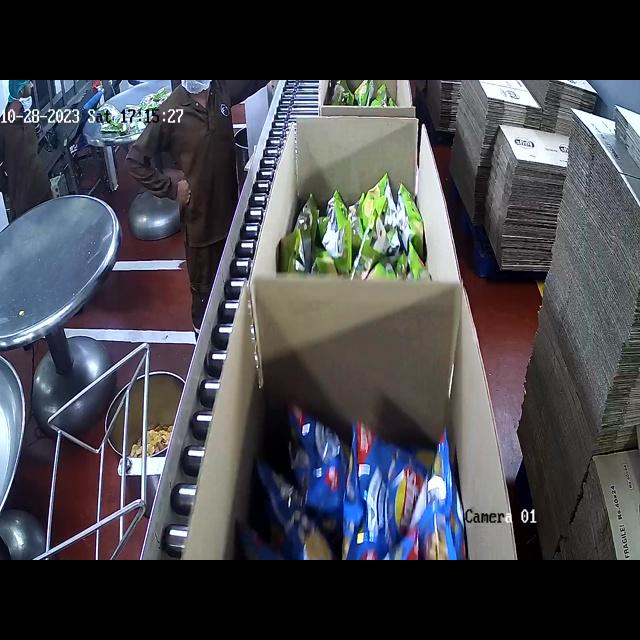paprika: (265, 404, 465, 551)
yogurt: (300, 181, 429, 285)
